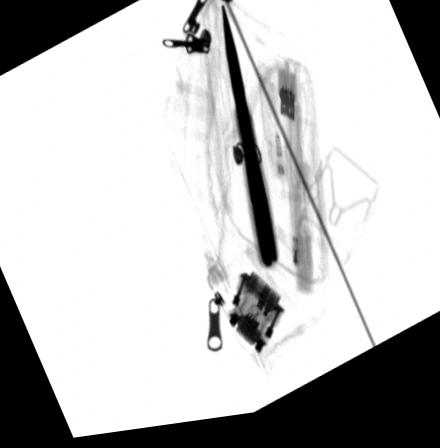Pliers: (218, 7, 278, 276)
